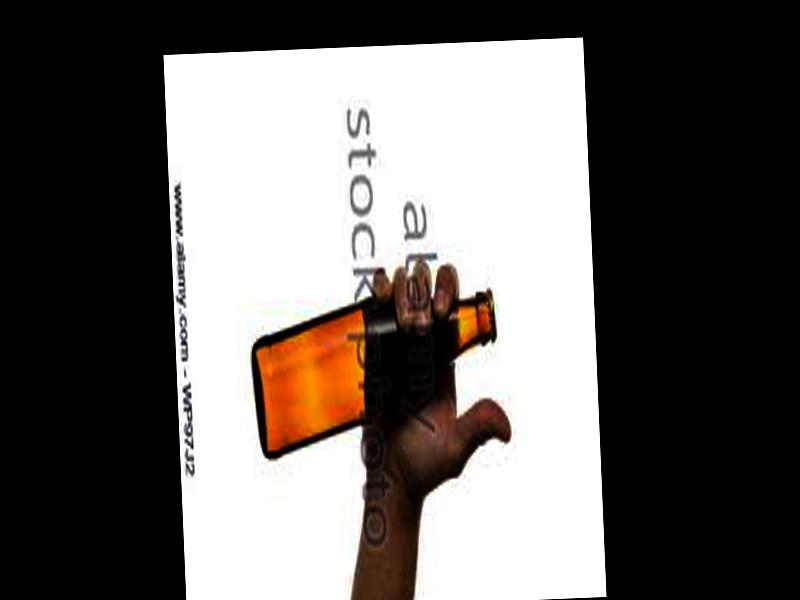Beer: (250, 285, 498, 461)
